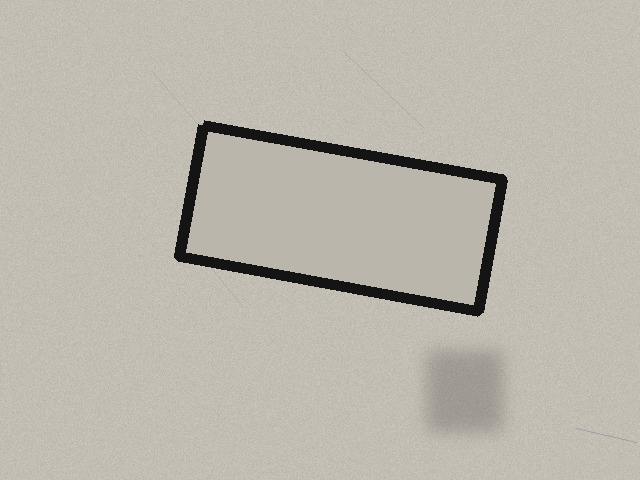parking_area: (179, 125, 502, 311)
